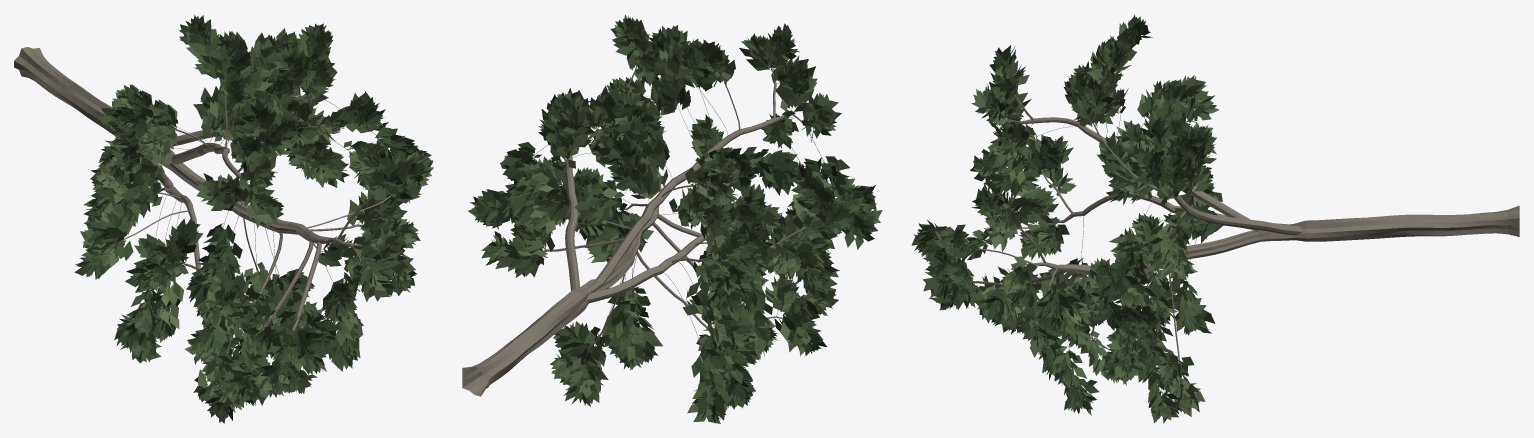
Rendered from tree_near_01.obj.
3 views of the same model, side by side, from view 1: azimuth 30°, elevation 25°; view 2: azimuth 150°, elevation 25°; view 3: azimuth 270°, elevation 25° (orthographic). The views are drawn at different scales.
Visible parts, largest first — view 1: tree_near_01; view 2: tree_near_01; view 3: tree_near_01.
Boxes of the visible parts, box(x1,y1,x2,y2) form: tree_near_01: box(14, 15, 433, 423); tree_near_01: box(462, 14, 882, 423); tree_near_01: box(911, 14, 1519, 423).
Bounding box in the file's own units: 0.6426 × 0.659 × 0.9947.
1 material, 1 textured.
